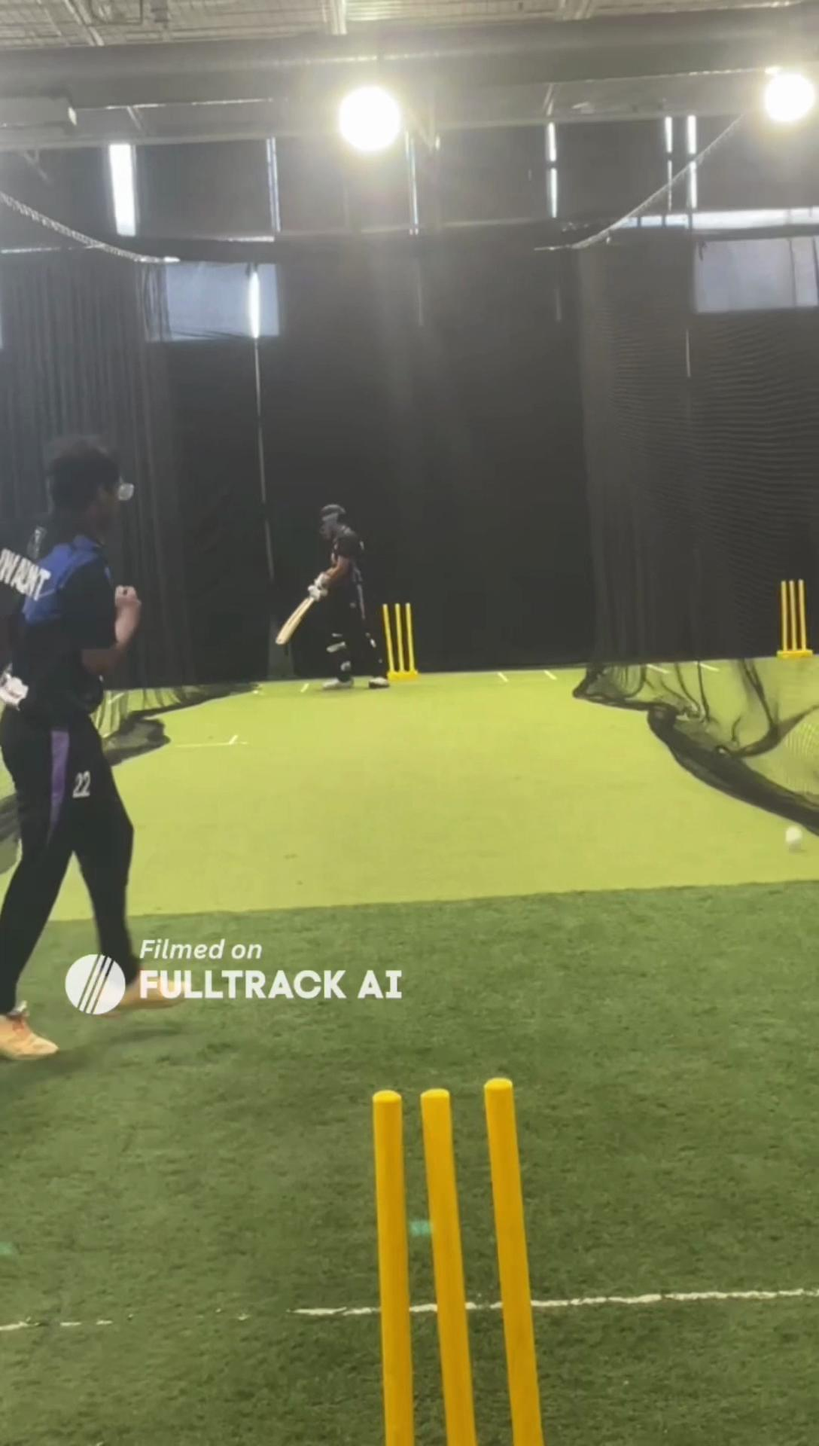ball: (783, 825, 809, 852)
